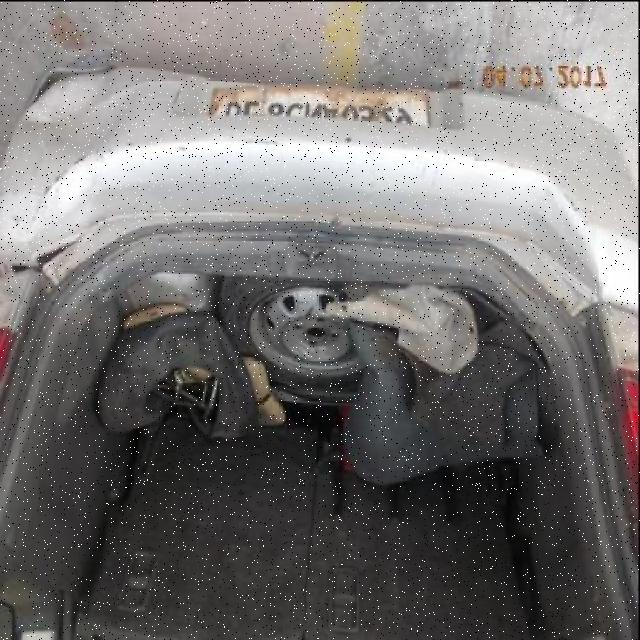damage: (28, 61, 197, 192), (11, 233, 92, 272)
